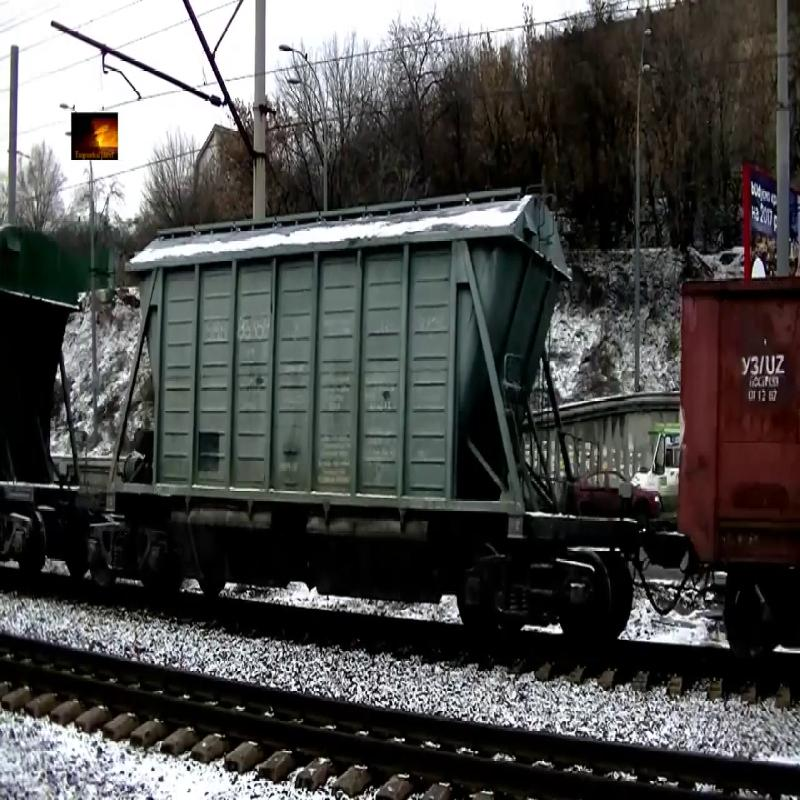train: (106, 180, 585, 555), (671, 267, 800, 579), (1, 216, 86, 532)
